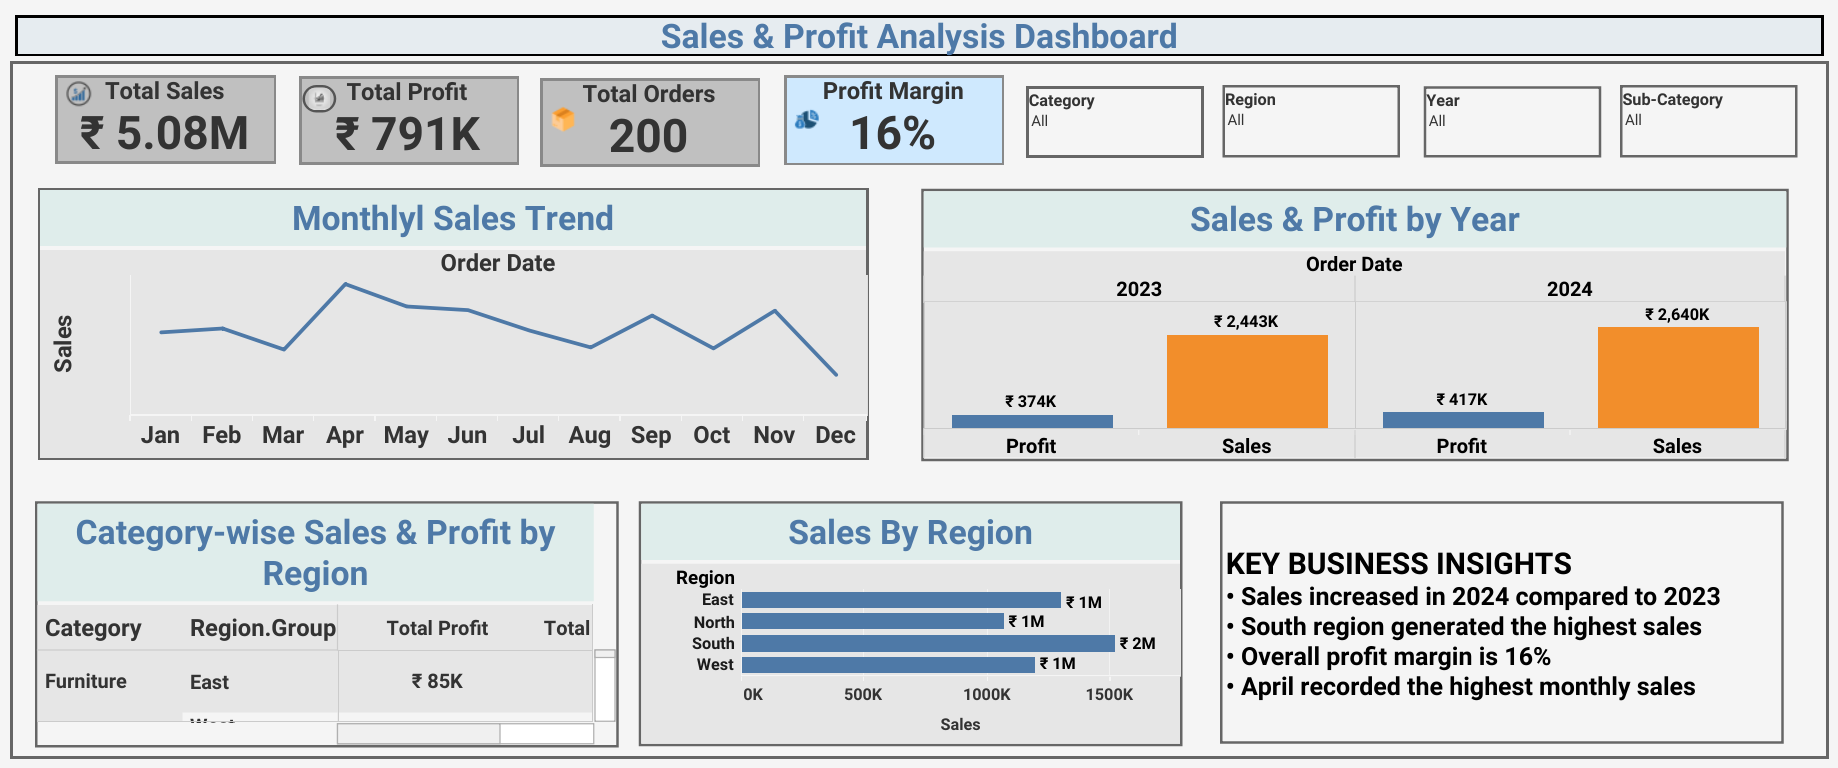

What the dashboard file says about the page in this screenshot:
{"tool":"tableau","page":{"name":"Dashboard 1","canvas":[1000,1000],"units":"permille","ordinal":0},"visuals":[{"type":"title","box":[4.8,9.4,990.3,61.1]},{"type":"worksheet","title":"Sheet 1","mark":"Automatic","box":[29.6,95.2,120.7,117.5]},{"type":"worksheet","title":"Sheet 11","mark":"Automatic","box":[425.5,96.4,120.7,117.5]},{"type":"worksheet","title":"Sheet 2","mark":"Automatic","box":[161.7,97.5,120.7,117.5]},{"type":"worksheet","title":"Sheet 3","mark":"Automatic","box":[292.7,98.7,120.7,117.5]},{"type":"filter","title":"Sheet 1","param":"[federated.0jchjna0ss3uea15h6ln901ewc5r].[State (group)]","box":[665.1,110.5,96.6,94]},{"type":"filter","title":"Sheet 12","param":"[federated.0jchjna0ss3uea15h6ln901ewc5r].[none:Sub-Category:nk]","box":[881.1,110.5,96.6,94]},{"type":"filter","title":"Sheet 1","param":"[federated.0jchjna0ss3uea15h6ln901ewc5r].[none:Category:nk]","box":[558.2,111.6,96.6,94]},{"type":"filter","title":"Sheet 1","param":"[federated.0jchjna0ss3uea15h6ln901ewc5r].[yr:Order Date:ok]","box":[774.3,111.6,96.6,94]},{"type":"worksheet","title":"Sheet 7","mark":"Automatic","rows":["Sales"],"cols":["Order Date"],"box":[20.5,243.2,452,354.9]},{"type":"worksheet","title":"Sheet 12","mark":"Bar","cols":["Order Date"],"box":[500.9,245.6,471.9,354.9]},{"type":"worksheet","title":"Sheet 5","mark":"Automatic","rows":["Category"],"box":[18.7,652.2,318,320.8]},{"type":"worksheet","title":"Sheet 10","mark":"Automatic","rows":["Region"],"cols":["Sales"],"box":[347.6,652.2,295.7,318.4]},{"type":"text","box":[663.2,652.2,306.6,314.9]}]}

Visuals, with their boxes on the dashboard's canvas, which has no fixed pixel size, in thousandths of its width and height (x1, y1, x2, y2). These are canvas units, not pixel positions in the 1838x768 screenshot, which may show the page scaled, cropped or inside an application window:
title: locate(5, 9, 995, 70)
"Sheet 1" worksheet: locate(30, 95, 150, 213)
"Sheet 11" worksheet: locate(426, 96, 546, 214)
"Sheet 2" worksheet: locate(162, 98, 282, 215)
"Sheet 3" worksheet: locate(293, 99, 413, 216)
"Sheet 1" filter: locate(665, 110, 762, 204)
"Sheet 12" filter: locate(881, 110, 978, 204)
"Sheet 1" filter: locate(558, 112, 655, 206)
"Sheet 1" filter: locate(774, 112, 871, 206)
"Sheet 7" worksheet: locate(20, 243, 472, 598)
"Sheet 12" worksheet (Bar marks): locate(501, 246, 973, 600)
"Sheet 5" worksheet: locate(19, 652, 337, 973)
"Sheet 10" worksheet: locate(348, 652, 643, 971)
text: locate(663, 652, 970, 967)
